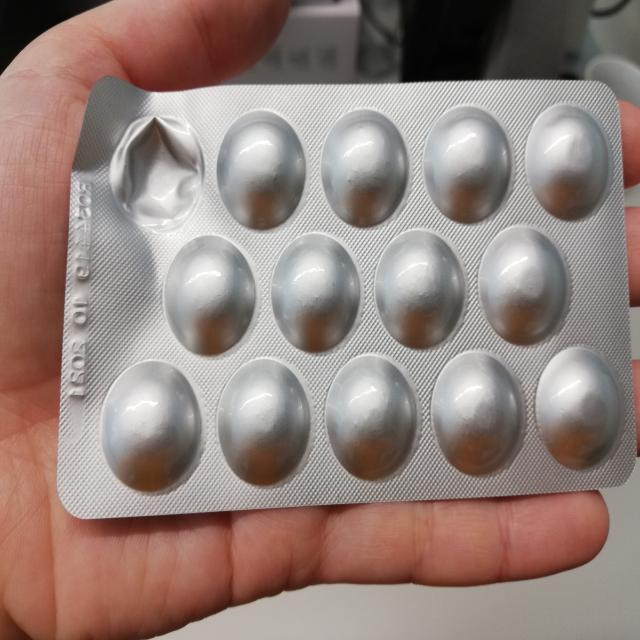Empty: (108, 106, 206, 232)
Pill: (98, 358, 206, 497), (214, 356, 313, 494), (326, 351, 422, 487), (432, 348, 525, 481), (164, 230, 258, 358), (536, 343, 626, 475), (213, 109, 308, 232), (374, 230, 469, 352), (270, 232, 364, 354), (422, 100, 513, 225), (525, 98, 613, 224), (319, 107, 409, 230), (480, 225, 572, 345)
